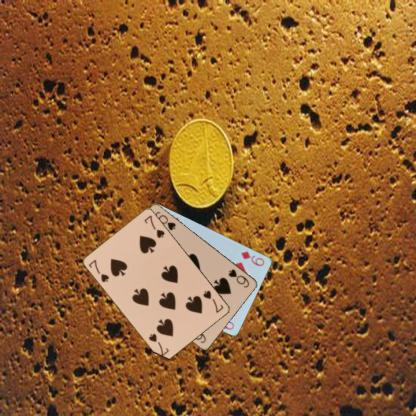6s: (226, 266, 251, 289)
7s: (86, 257, 111, 284), (200, 288, 225, 314)
9d: (238, 249, 266, 268)
